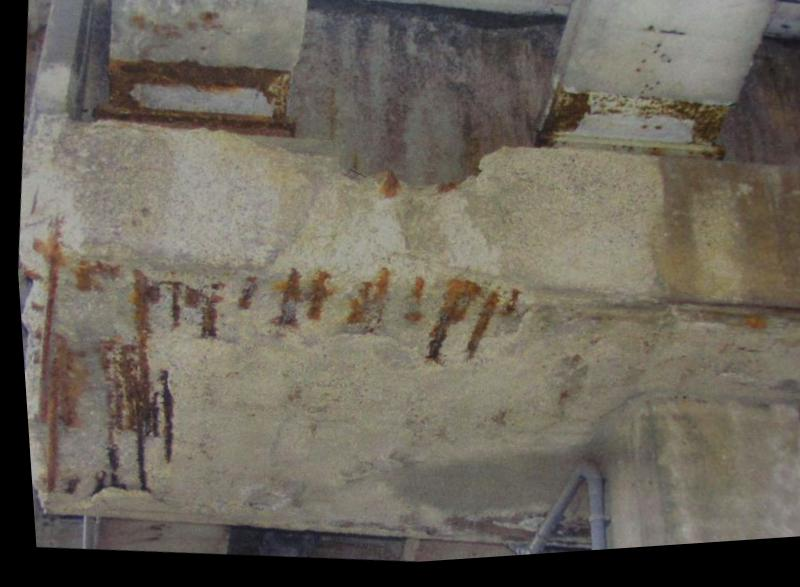spalling: (22, 231, 539, 504)
